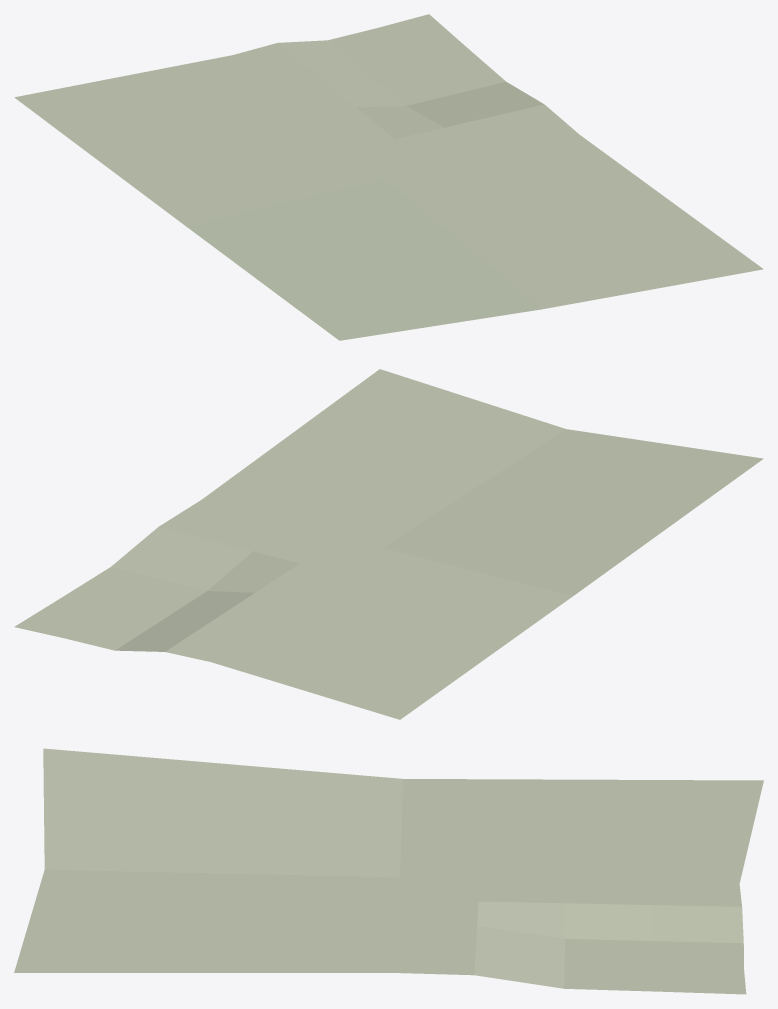
Rendered from paper 1.fbx.
3 views of the same model, one above another, from view 1: azimuth 30°, elevation 25°; view 2: azimuth 150°, elevation 25°; view 3: azimuth 270°, elevation 25° (orthographic). The views are drawn at different scales.
Parts seen in each view (by area): view 1: Plane.002; view 2: Plane.002; view 3: Plane.002.
Part boxes in pixels (x1,y1,x2,y2): Plane.002: (14, 14, 763, 340); Plane.002: (14, 369, 763, 719); Plane.002: (14, 748, 763, 994).
Bounding box in the file's own units: 245 × 15.7 × 359.
